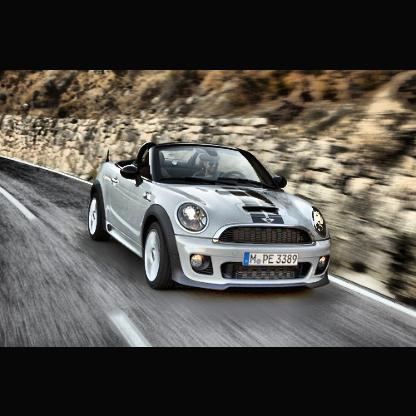MINI Cooper Roadster Convertible 2012: (90, 142, 332, 295)
